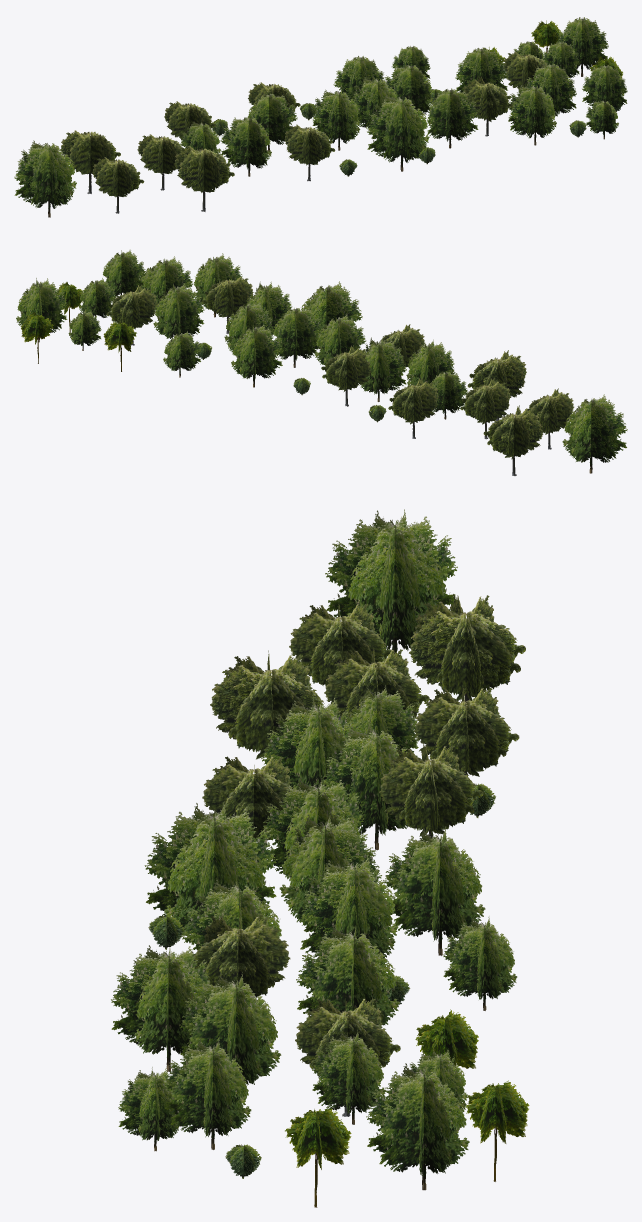
Rendered from ParkTreesChunk7.fbx.
The picture shows the model from 3 angles, top to bottom: view 1: azimuth 30°, elevation 25°; view 2: azimuth 150°, elevation 25°; view 3: azimuth 270°, elevation 25°; orthographic projection. The views are drawn at different scales.
Parts seen in each view (by area): view 1: TreesPack.009; view 2: TreesPack.009; view 3: TreesPack.009.
Part boxes in pixels (bbox=[...]): TreesPack.009: bbox=[14, 17, 627, 217]; TreesPack.009: bbox=[16, 249, 627, 475]; TreesPack.009: bbox=[111, 509, 529, 1207].
Bounding box in the file's own units: 15482 × 2165 × 4770.
